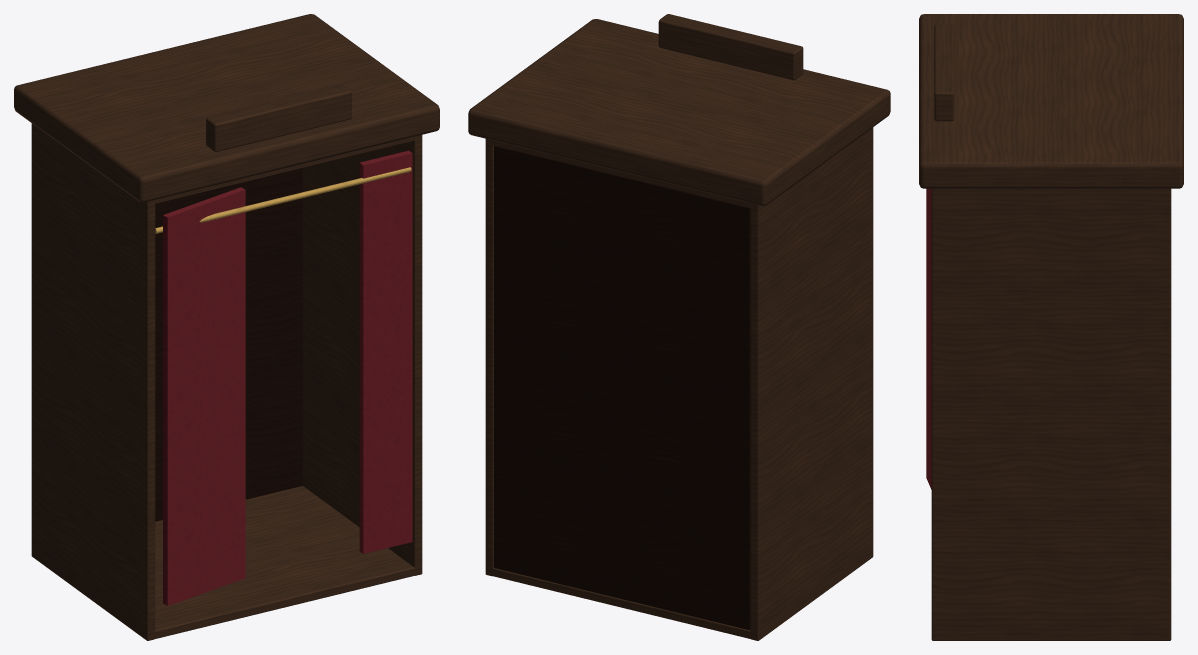
File: confessional.glb
3 views of the same model, side by side, from view 1: azimuth 30°, elevation 25°; view 2: azimuth 150°, elevation 25°; view 3: azimuth 270°, elevation 25° (orthographic). The views are drawn at different scales.
Visible parts, largest first — view 1: confessional; view 2: confessional; view 3: confessional.
Part boxes in pixels (<box>): confessional: <box>14,14,439,640</box>; confessional: <box>468,14,890,640</box>; confessional: <box>919,14,1183,640</box>.
Bounding box in the file's own units: 1.42 × 2.25 × 1.05.
Materials: 4 (4 with a texture image).
